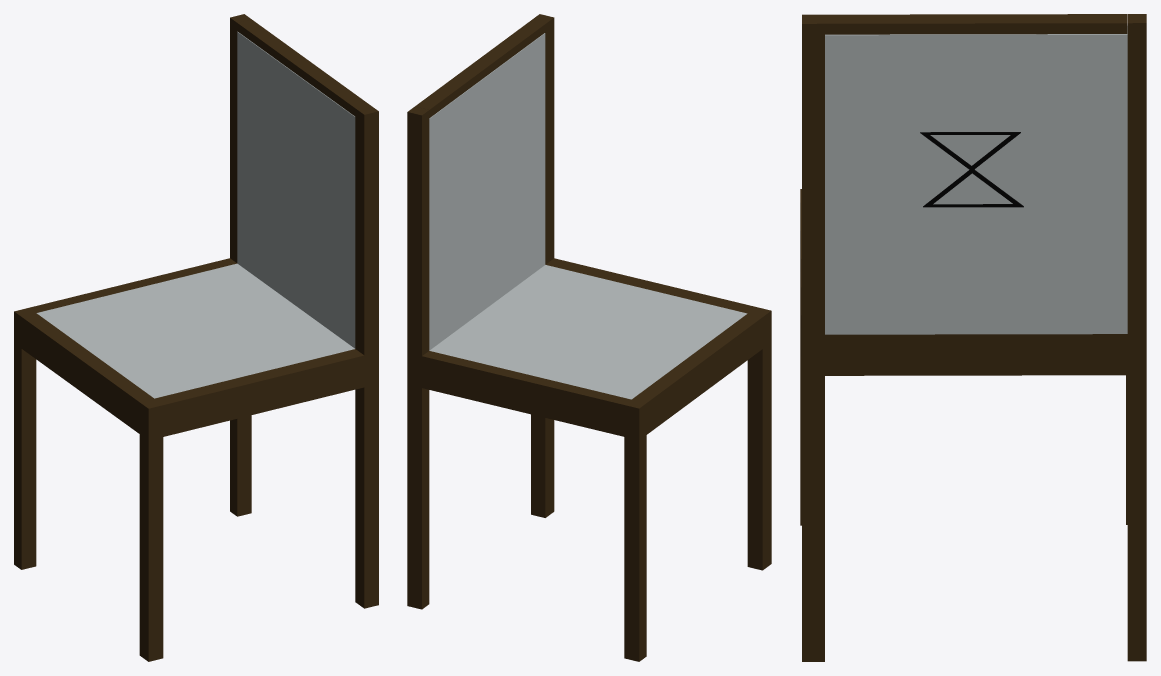
Rendered from ura.fbx.
3 renders of one model, left to right at view 1: azimuth 30°, elevation 25°; view 2: azimuth 150°, elevation 25°; view 3: azimuth 270°, elevation 25°, orthographic. The views are drawn at different scales.
Visible parts, largest first — view 1: Cube; view 2: Cube; view 3: Cube, Plane.002.
Part boxes in pixels (box(x1,y1,x2,y2)): Cube: box(14, 14, 378, 661); Cube: box(407, 14, 771, 661); Cube: box(800, 14, 1146, 661); Plane.002: box(920, 132, 1023, 207).
Bounding box in the file's own units: 202 × 409 × 201.
